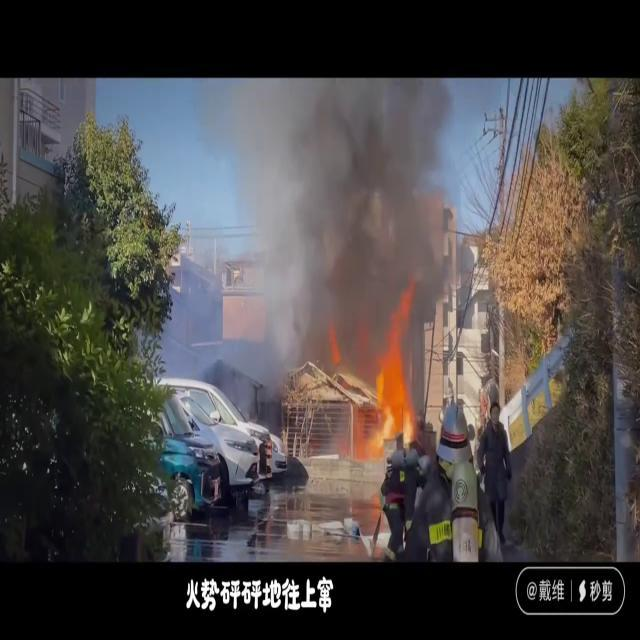Fire: (358, 318, 423, 468)
Smoke: (256, 78, 466, 373)
